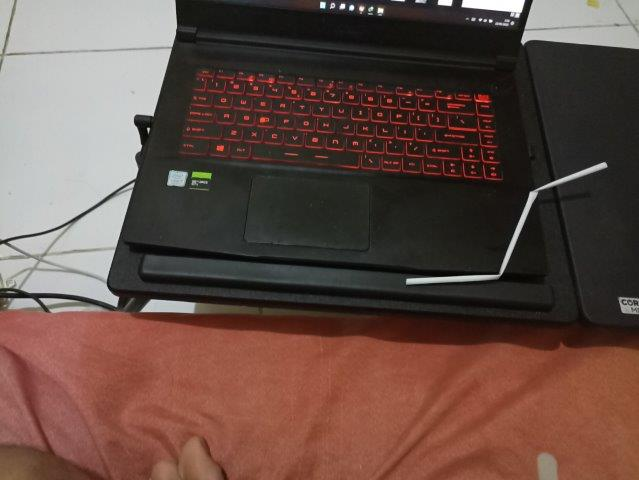sedotan: (408, 163, 607, 284)
